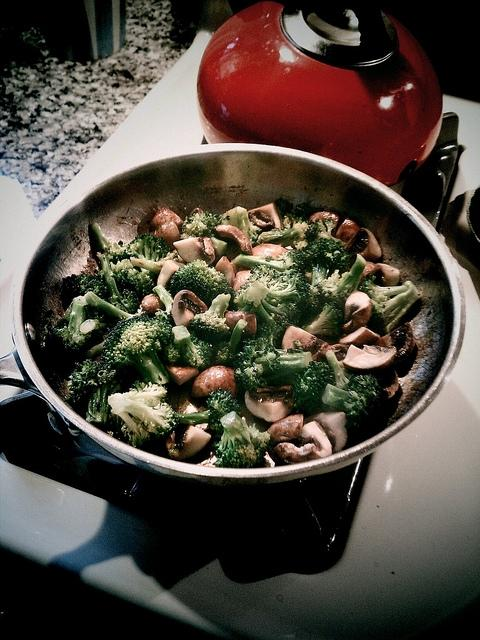broccoli: (234, 263, 312, 348), (100, 312, 174, 384), (107, 380, 180, 448), (232, 336, 314, 394), (359, 275, 422, 337), (68, 359, 120, 428), (314, 253, 367, 320), (173, 388, 242, 439), (268, 361, 336, 411), (170, 258, 237, 308), (322, 374, 382, 428), (214, 412, 270, 468), (300, 237, 350, 286), (187, 294, 232, 346), (102, 255, 140, 315), (51, 296, 93, 350), (180, 210, 228, 256), (258, 214, 322, 248), (232, 249, 306, 278), (126, 233, 170, 280), (164, 325, 212, 368), (90, 220, 132, 265), (221, 206, 262, 248), (213, 320, 248, 369), (84, 291, 134, 321), (301, 302, 342, 336), (120, 266, 156, 300), (154, 284, 176, 328), (79, 314, 120, 334)
mushroom: (303, 411, 348, 454), (244, 386, 296, 422), (342, 344, 396, 376), (290, 420, 332, 460), (344, 228, 382, 272), (376, 322, 414, 365), (282, 325, 333, 356), (166, 425, 211, 460), (340, 290, 372, 337), (190, 366, 236, 398), (166, 379, 208, 414), (171, 290, 209, 328), (216, 225, 254, 262), (172, 236, 214, 264), (266, 414, 304, 441), (338, 326, 380, 349), (247, 202, 284, 228), (150, 220, 180, 250), (276, 442, 316, 464), (157, 260, 187, 288), (150, 207, 183, 230), (224, 311, 256, 334), (310, 212, 340, 236), (166, 366, 199, 386), (374, 263, 401, 287), (335, 218, 360, 243), (216, 256, 234, 286), (360, 261, 382, 285), (253, 244, 292, 256), (383, 370, 399, 399), (233, 270, 253, 292), (142, 294, 162, 314)
